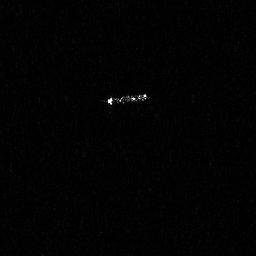ship: (104, 90, 151, 109)
